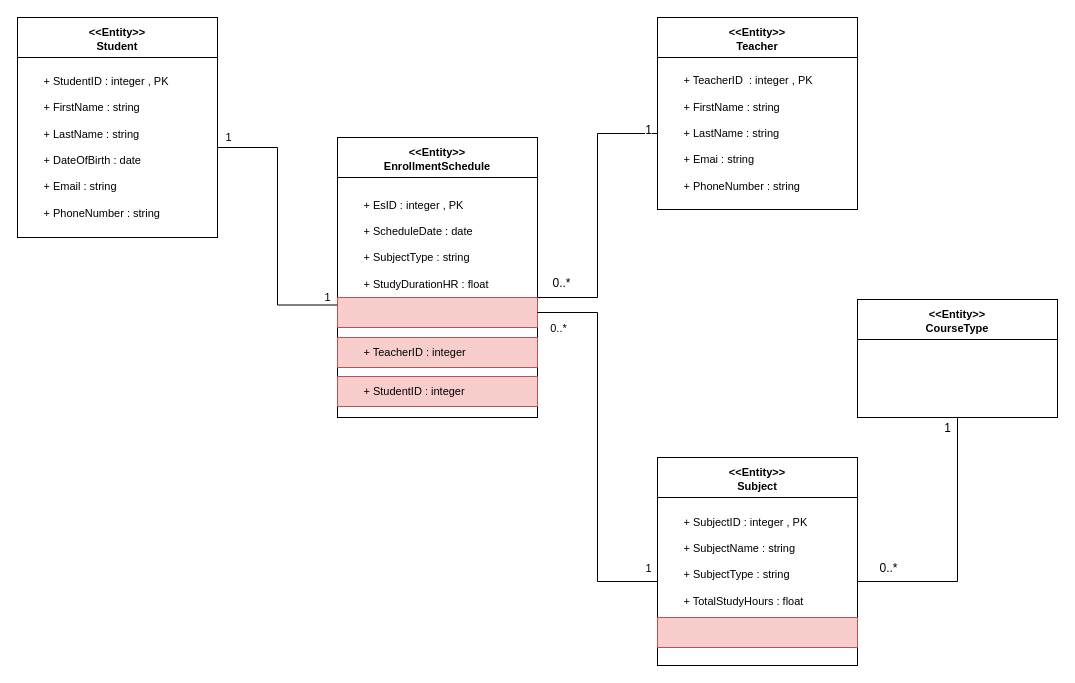
This 1075x683 diagram has some shape labels left out. The centre of each missing label's shape, as x and y in pixels:
"+ CourseTypeID :" belongs at (757,632).
"+ CourseTypeID : integer , PK + CourseTypeName : string" belongs at (957,378).
"+ SubjectID : integer" belongs at (437,312).
